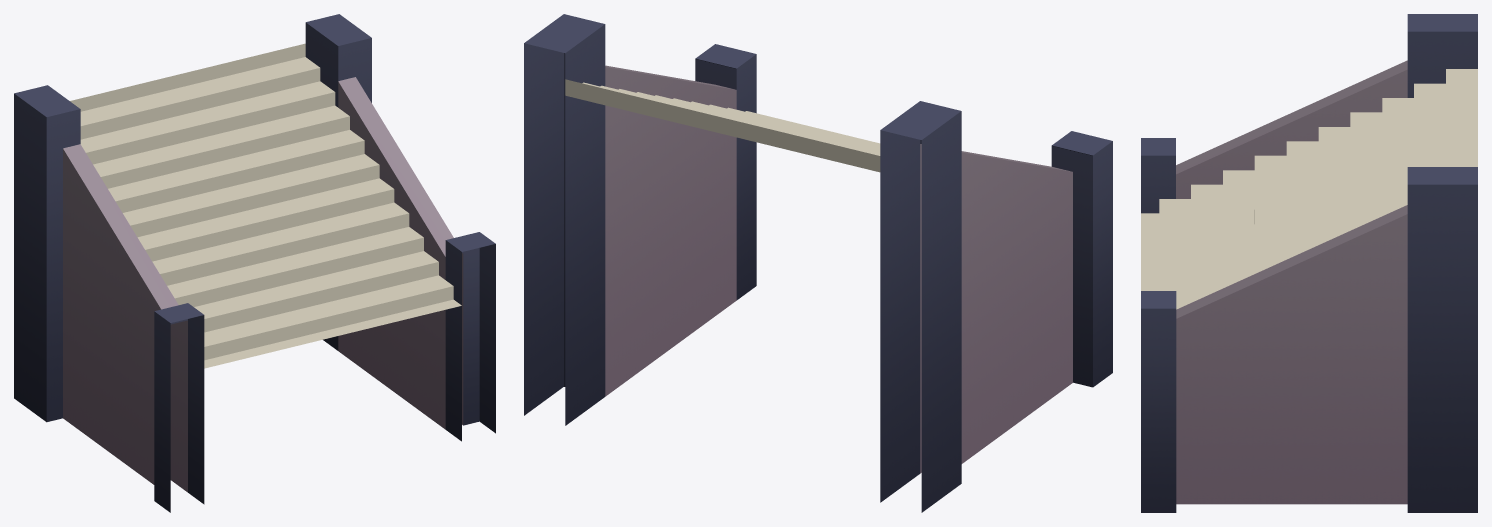
File: singleLongStair2.fbx
3 renders of one model, left to right at view 1: azimuth 30°, elevation 25°; view 2: azimuth 150°, elevation 25°; view 3: azimuth 270°, elevation 25°, orthographic. The views are drawn at different scales.
Parts seen in each view (by area): view 1: Cube.059; view 2: Cube.059; view 3: Cube.059.
Boxes of the visible parts, <box> form: Cube.059: <box>14,14,495,512</box>; Cube.059: <box>524,14,1112,512</box>; Cube.059: <box>1141,14,1477,512</box>.
Size of the model in its own units: 240 by 215 by 200.
